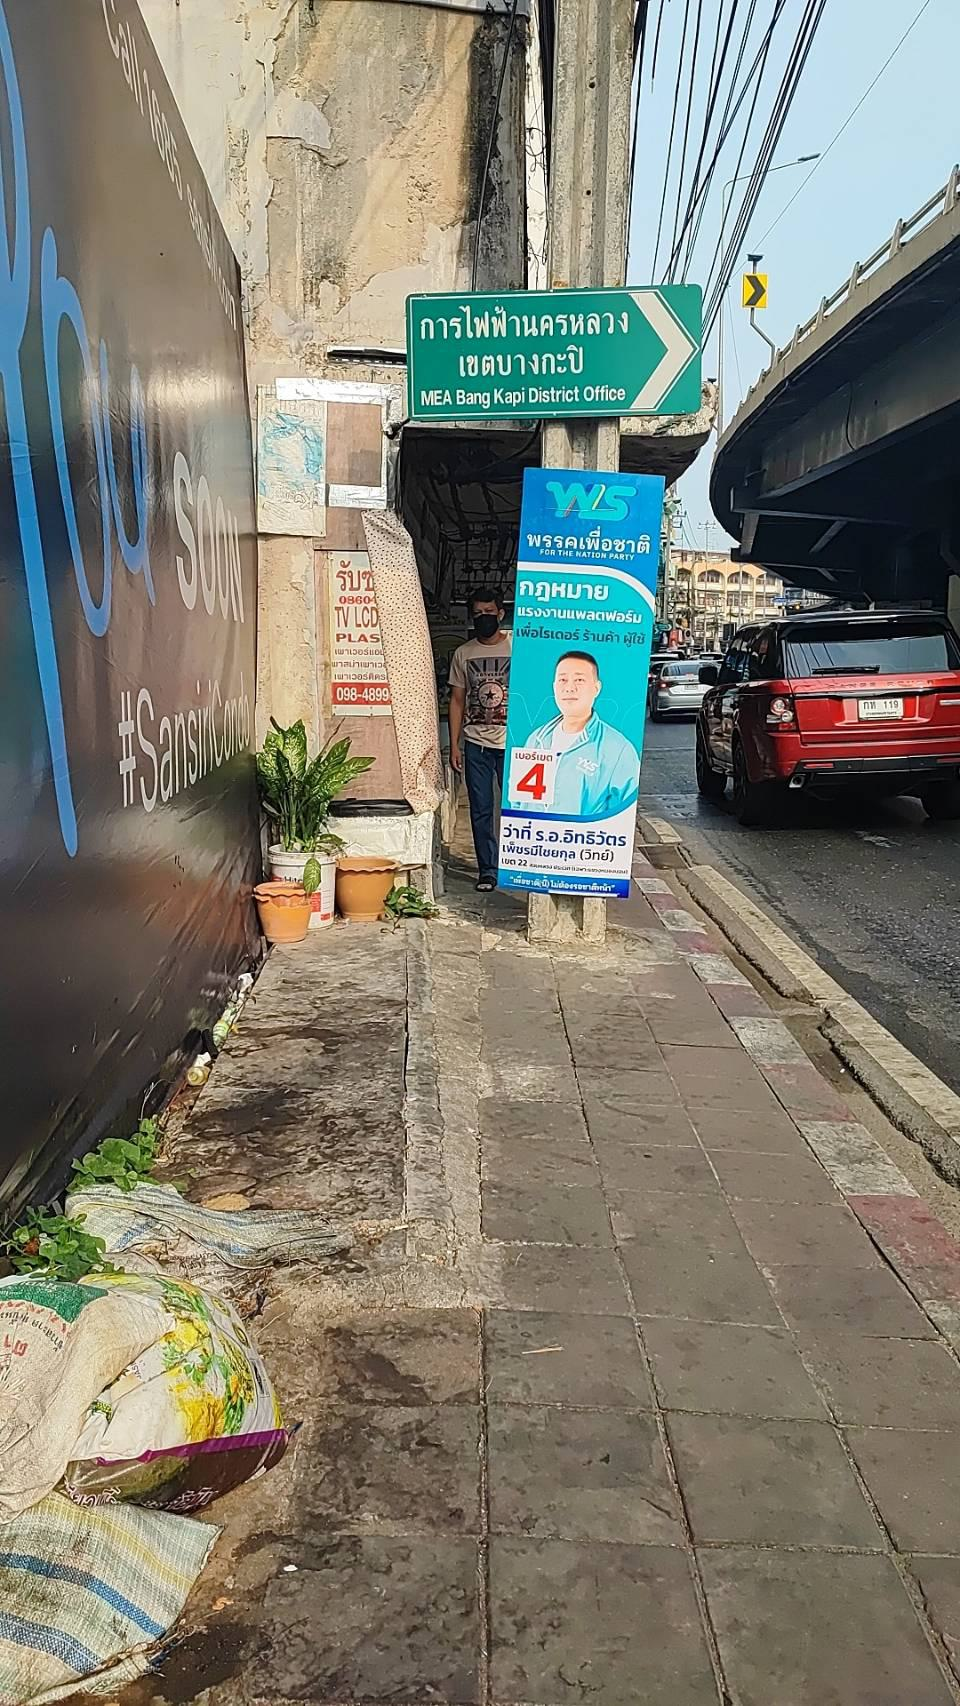Banner: (508, 462, 640, 900)
